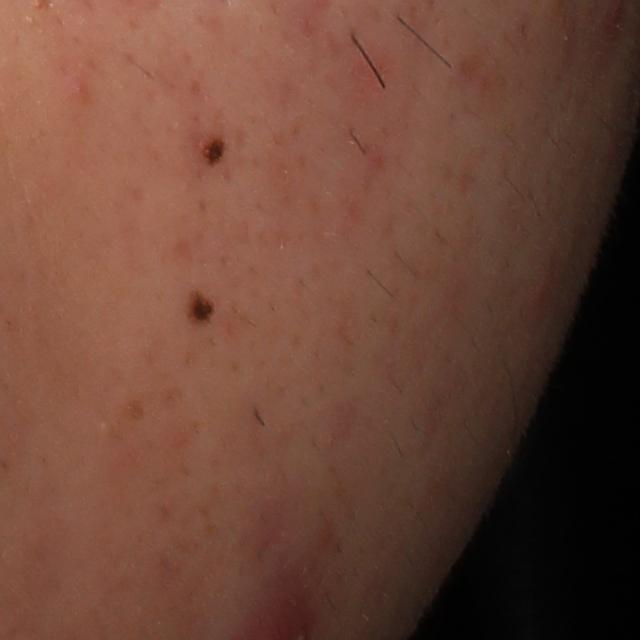nevus: (186, 288, 218, 330), (200, 132, 227, 164)
